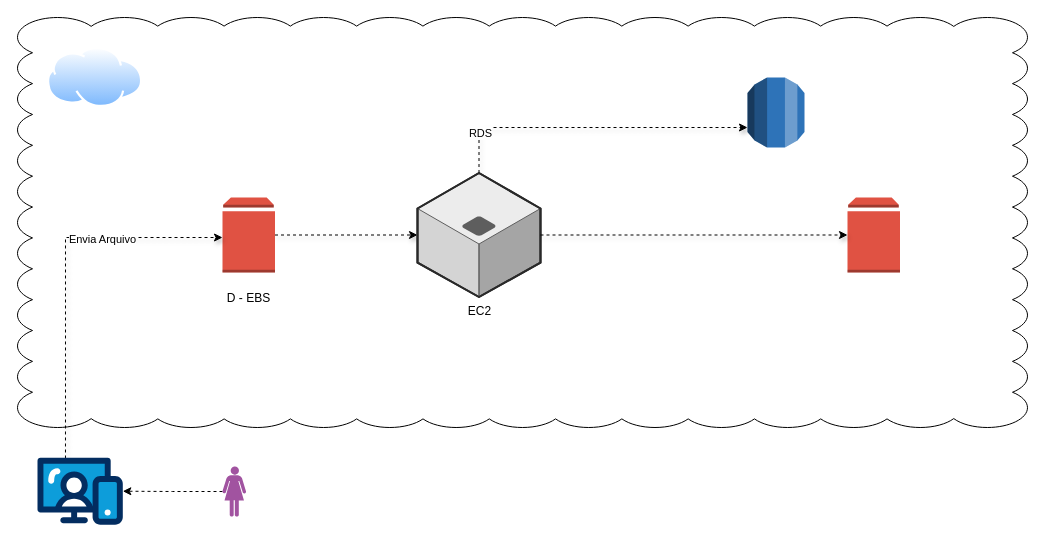
The diagram is 1045 pixels wide and 542 high, and some of its shapes have lost their labels. Here are the shapes that lost their labels. From the top down, the centre of each, then its label:
At point 94,77: "AWS".
At point 873,234: "E - EBS".
